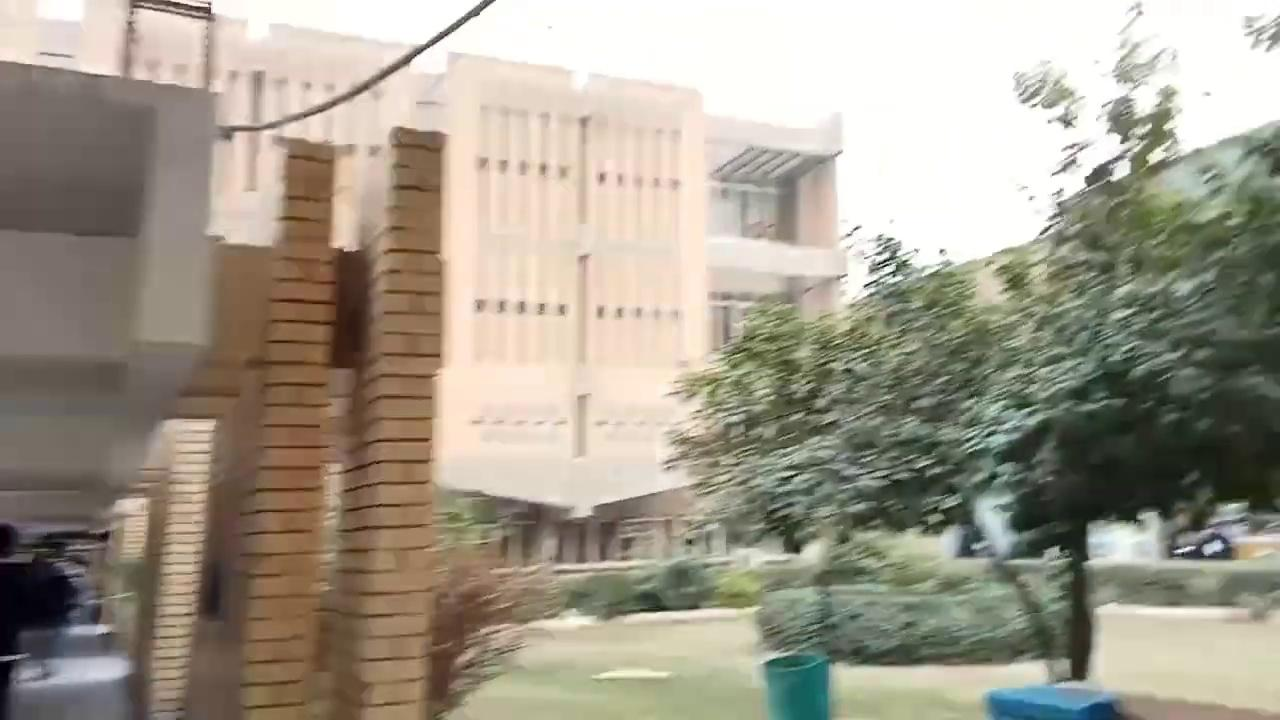person: (0, 521, 77, 717)
tree: (660, 1, 1278, 686), (987, 2, 1276, 679), (658, 226, 1028, 715), (427, 490, 562, 718)
